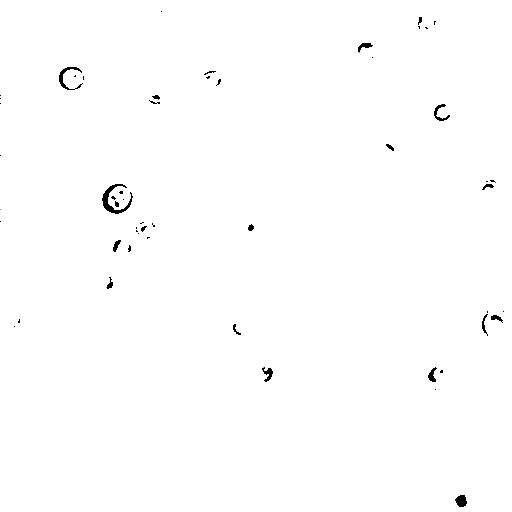micro-algae: (439, 479, 481, 512), (102, 183, 133, 215), (482, 305, 510, 339), (235, 211, 265, 241), (423, 360, 453, 390), (57, 65, 87, 92), (418, 8, 442, 38), (133, 218, 158, 241), (355, 41, 381, 63), (200, 69, 225, 91), (151, 3, 175, 23), (477, 179, 499, 200), (97, 455, 117, 477), (112, 238, 132, 259), (231, 315, 251, 336), (256, 363, 275, 385), (433, 102, 452, 123), (377, 141, 395, 161), (95, 273, 115, 290), (2, 311, 22, 328)
